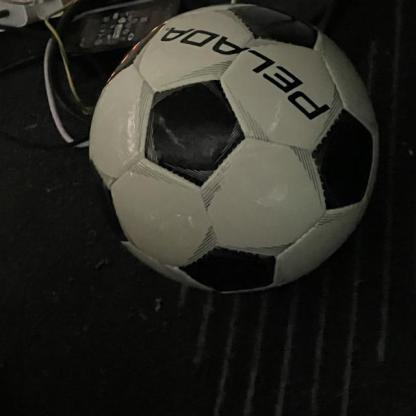ball: (89, 2, 380, 294)
